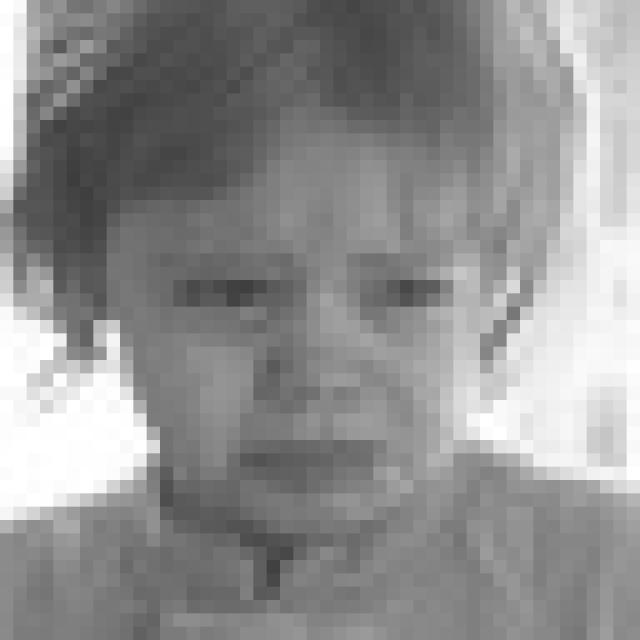sad: (152, 248, 468, 497)
